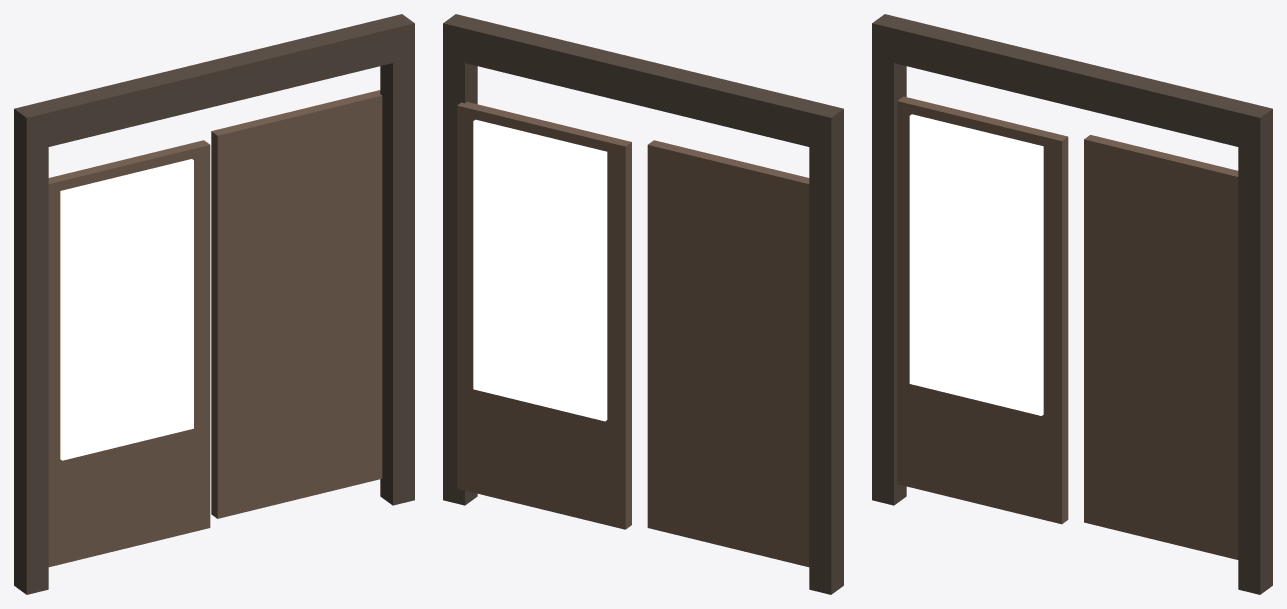
The model's file is prop_kido.glb.
3 views of the same model, side by side, from view 1: azimuth 30°, elevation 25°; view 2: azimuth 150°, elevation 25°; view 3: azimuth 330°, elevation 25° (orthographic).
Visible parts, largest first — view 1: kido; view 2: kido; view 3: kido.
Boxes of the visible parts, x1,y1,x2,y2 form: kido: (14, 14, 414, 594); kido: (443, 14, 843, 594); kido: (872, 14, 1272, 594).
Size of the model in its own units: 2.12 by 2.49 by 0.18.
